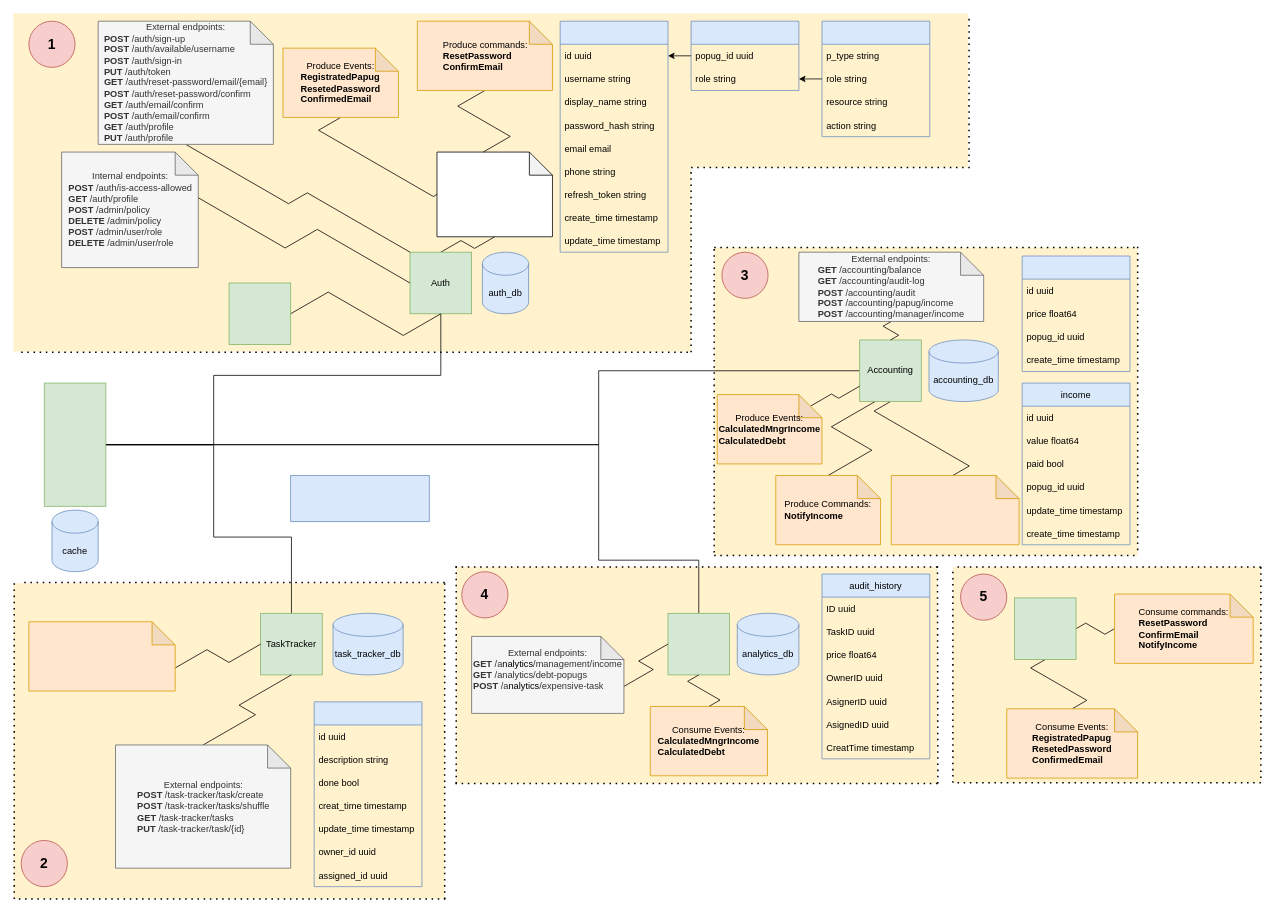
The diagram is 1275 pixels wide and 913 high, and some of its shapes have lost their labels. Here are the shapes that lost their labels. From the top down, the box of each, then its label:
(690, 20, 799, 90): access_role
(821, 20, 930, 137): access_rules
(559, 20, 668, 252): Popug
(436, 151, 552, 237): Existed roles: Admin , Manager , Accountant , Developer , Guest
(228, 282, 291, 345): cli-auth-admin
(1021, 255, 1130, 372): audit
(44, 382, 106, 506): API Gateway
(290, 475, 429, 522): DATABUS
(891, 475, 1019, 545): Consume Events: CreatedTask FinishedTask ReassignedTask
(667, 613, 730, 675): Analytics
(1014, 597, 1076, 660): Mailer
(28, 621, 175, 691): Produce Events: CreatedTask FinishedTask ReassignedTask
(313, 701, 422, 887): task
